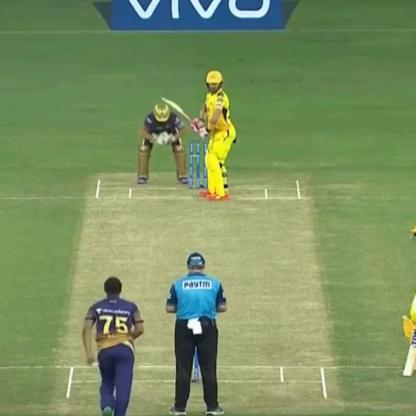bat: (161, 94, 199, 133)
pitch: (53, 178, 330, 404)
